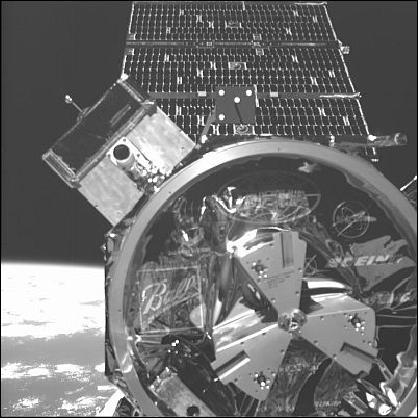antenna: (62, 90, 94, 123)
body: (102, 134, 420, 420)
solar: (119, 0, 381, 166)
thruster: (112, 142, 138, 172)
